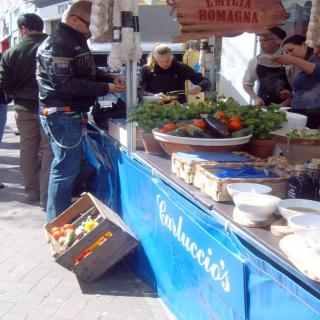tomato: (52, 230, 65, 241), (62, 222, 76, 232), (162, 122, 176, 132), (192, 119, 206, 129), (226, 120, 238, 130), (185, 123, 194, 131), (51, 226, 61, 233), (213, 112, 227, 115)
